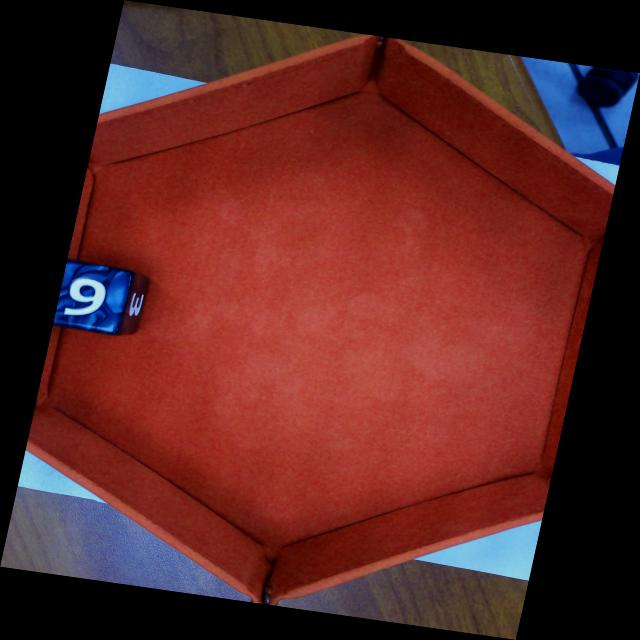dice: (52, 259, 135, 338)
